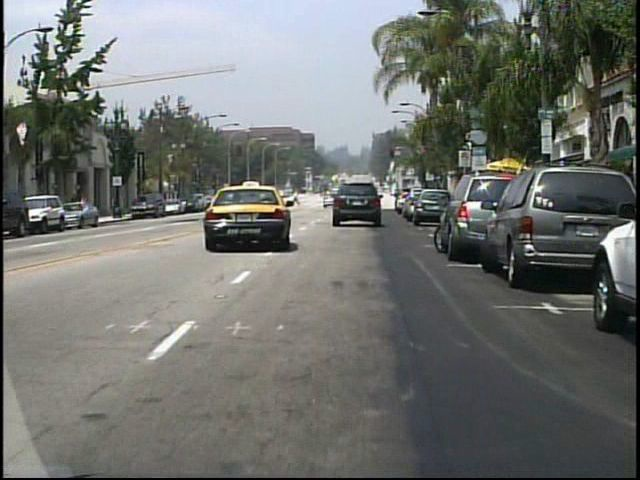person: (72, 188, 85, 221), (81, 192, 92, 221), (293, 189, 301, 207)
